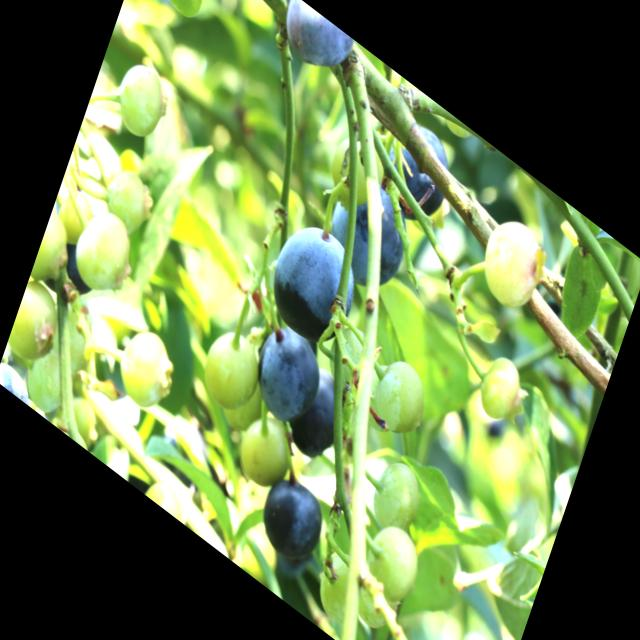blueberry: (262, 209, 370, 362), (319, 158, 419, 304), (373, 108, 464, 238), (244, 311, 330, 436), (271, 0, 358, 95), (284, 360, 350, 472), (255, 469, 327, 571)
blueberry-unripe: (65, 200, 150, 318), (472, 202, 554, 322), (195, 316, 267, 424), (5, 269, 71, 380), (365, 346, 435, 450), (325, 119, 396, 221), (231, 398, 301, 501), (358, 508, 428, 611), (114, 318, 182, 419), (364, 447, 429, 548), (108, 52, 174, 151), (472, 340, 530, 434), (98, 159, 158, 248), (309, 539, 367, 631), (30, 210, 81, 296), (23, 342, 77, 423), (54, 183, 97, 250), (58, 386, 102, 451), (144, 469, 190, 523), (153, 0, 222, 32)
